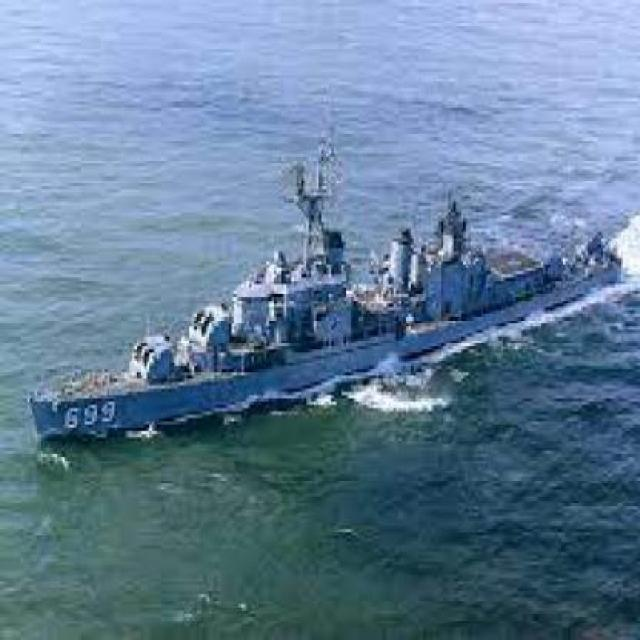warship2: (21, 92, 629, 449)
